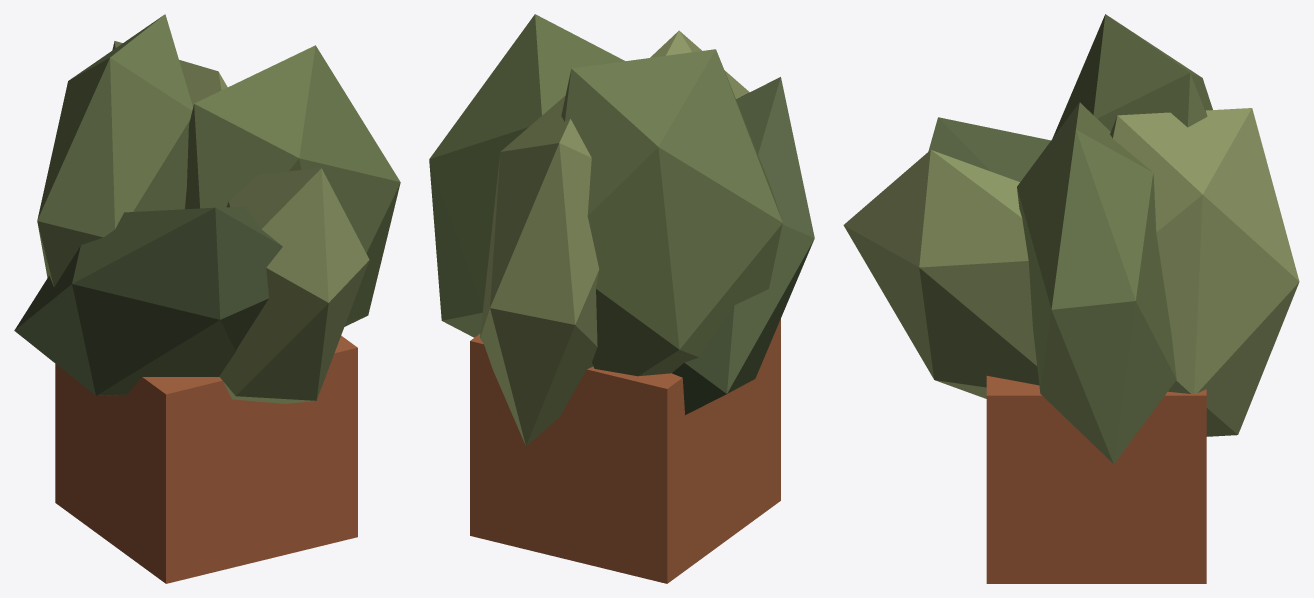
The model's file is plant-s0.9.glb.
3 renders of one model, left to right at view 1: azimuth 30°, elevation 25°; view 2: azimuth 150°, elevation 25°; view 3: azimuth 270°, elevation 25°, orthographic. The views are drawn at different scales.
Parts seen in each view (by area): view 1: plant-s0.9; view 2: plant-s0.9; view 3: plant-s0.9.
Boxes of the visible parts, <box> form: plant-s0.9: <box>14,14,400,583</box>; plant-s0.9: <box>429,14,814,583</box>; plant-s0.9: <box>843,14,1299,583</box>.
Bounding box in the file's own units: 0.5619 × 0.7779 × 0.6716.
